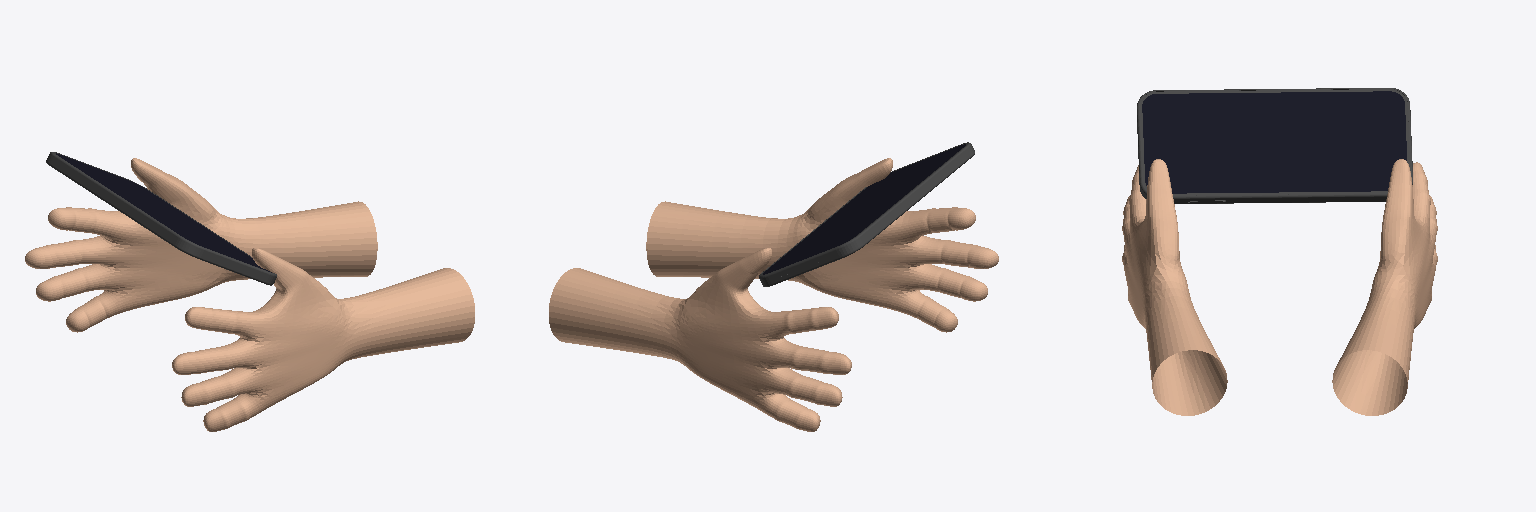
The model's file is Hand4.obj.
3 views of the same model, side by side, from view 1: azimuth 30°, elevation 25°; view 2: azimuth 150°, elevation 25°; view 3: azimuth 270°, elevation 25° (orthographic).
Parts seen in each view (by area): view 1: Default, iphone_15_pro_max_white; view 2: Default, iphone_15_pro_max_white; view 3: iphone_15_pro_max_white, Default.
Part boxes in pixels (x1,y1,x2,y2): Default: (25,158,474,431); iphone_15_pro_max_white: (46,152,276,285); Default: (549,158,998,431); iphone_15_pro_max_white: (759,142,974,286); iphone_15_pro_max_white: (1137,88,1412,203); Default: (1122,159,1437,415).
Size of the model in its own units: 2059 by 1238 by 1800.